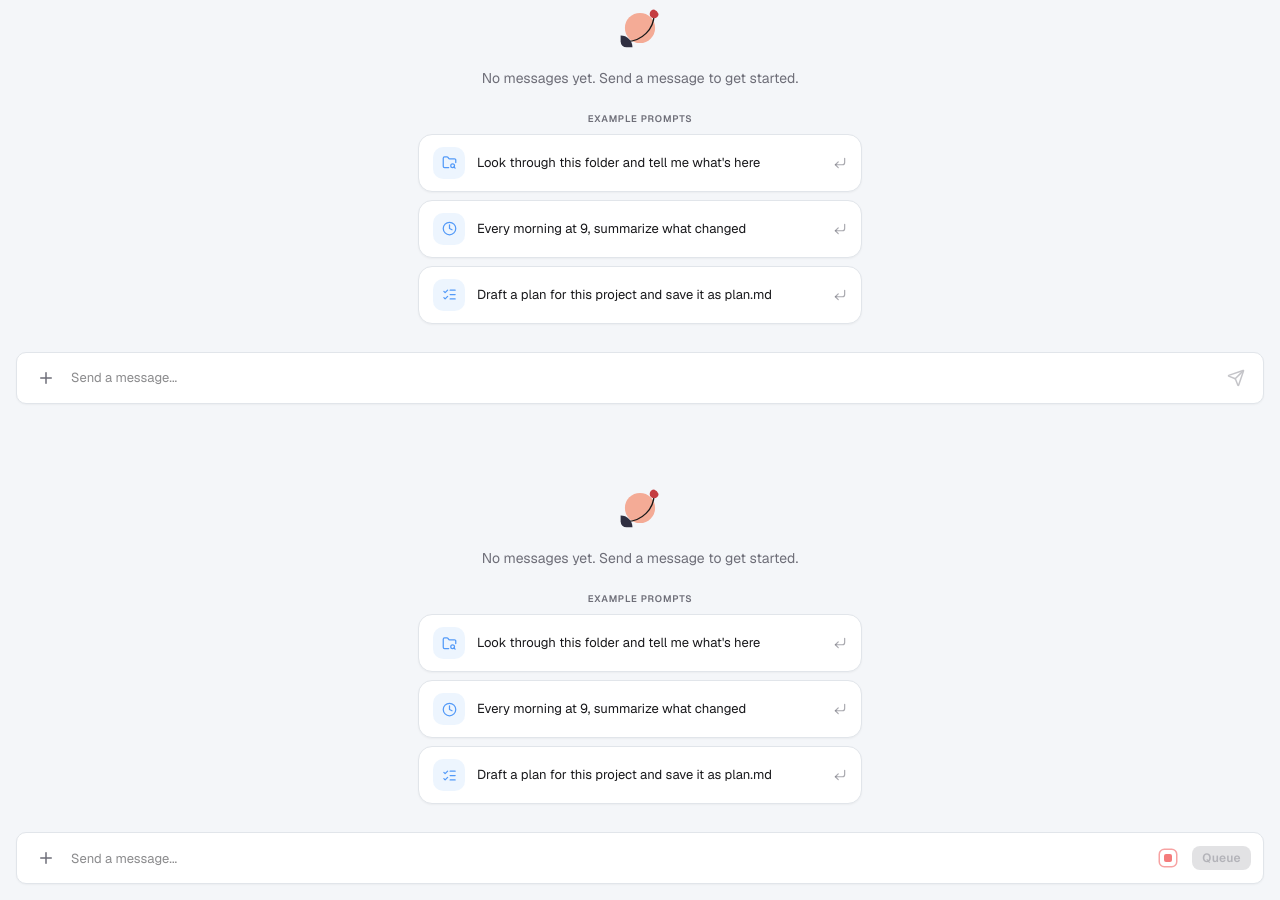
Test: ChatView Stop button: isCancelling optimistic state › clears isCancelling after a 10s timeout and shows a retry notice
(page scrolled)
Click the button named "Stop".
click(1168, 858)  # box [1152,842,1184,874]
Wait 10000 ms
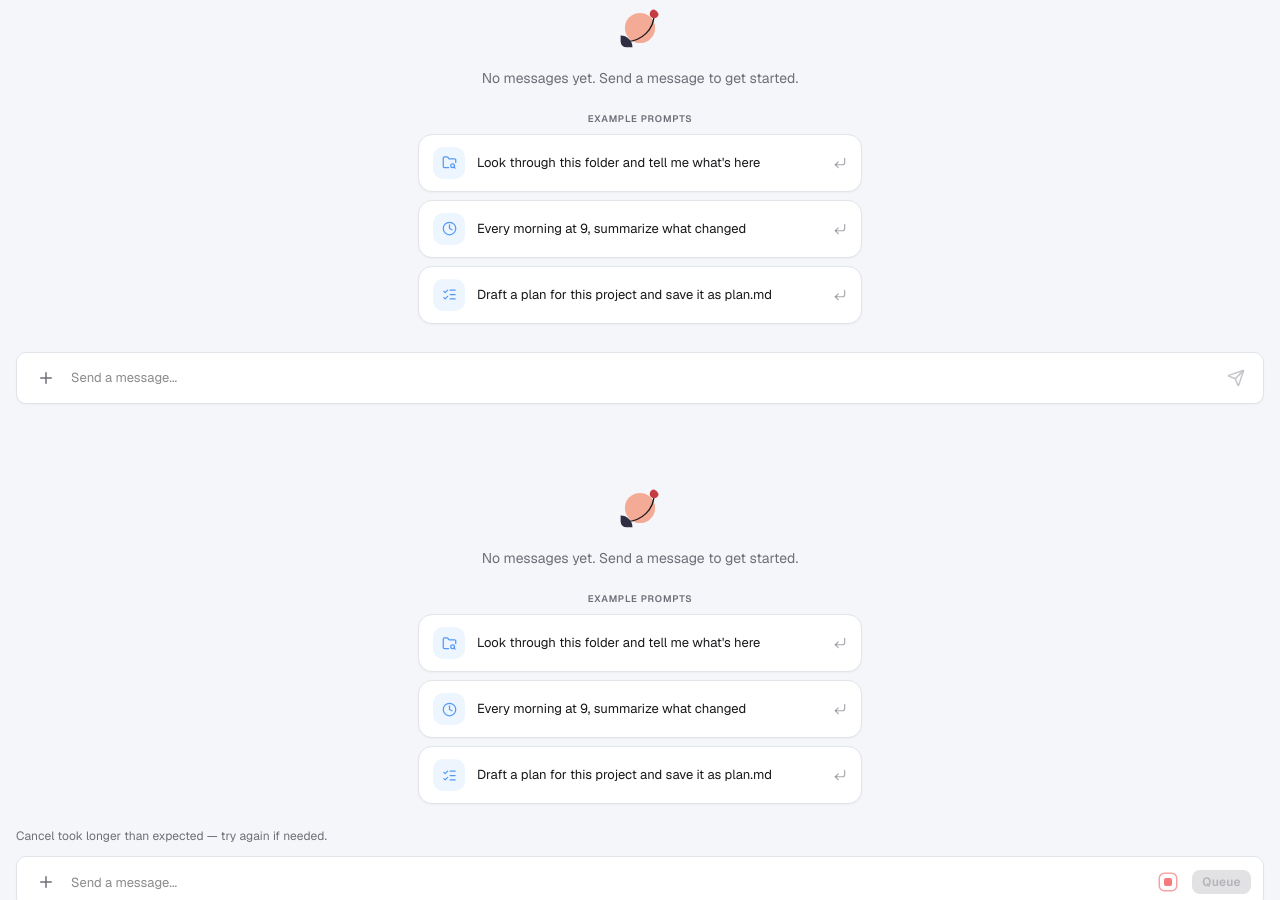
Check: the button named "Stop" is shown, box [1152,866,1184,898]
Check: the message "Cancel took longer than expected — try again if needed." is shown, box [16,828,327,844]
